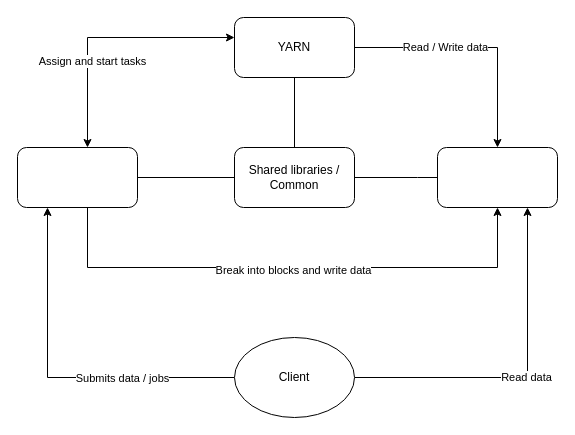
Image size: 575x435. Some labels were removed from this diagram. The shapes that lost their labels are listed below. From the top down, each one's centre as x and y in pixels, then its label:
At [77,177]: "MapReduce".
At [497,177]: "HDFS".
